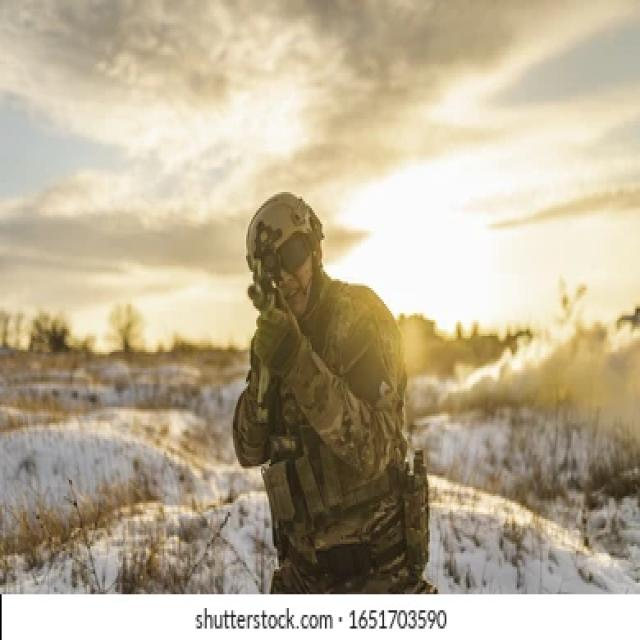soldier: (211, 171, 441, 607)
